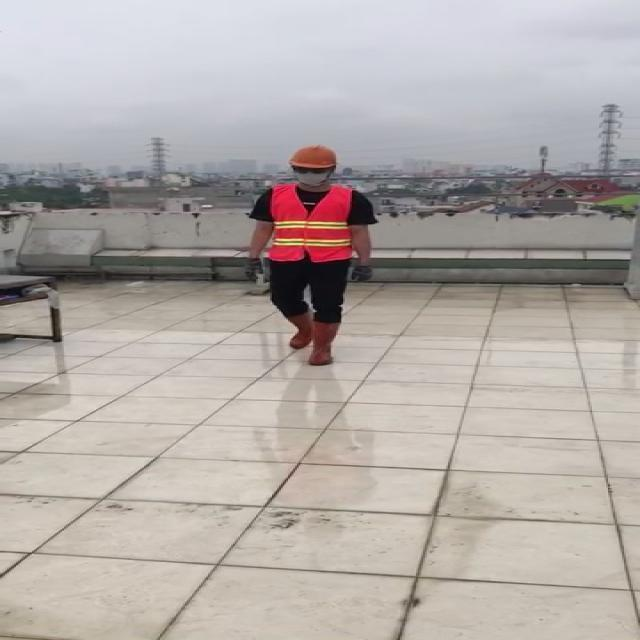gloves: (244, 258, 262, 282), (350, 265, 373, 282)
goggles: (292, 168, 334, 174)
helmet: (287, 145, 341, 172)
safety_vest: (267, 186, 350, 262)
